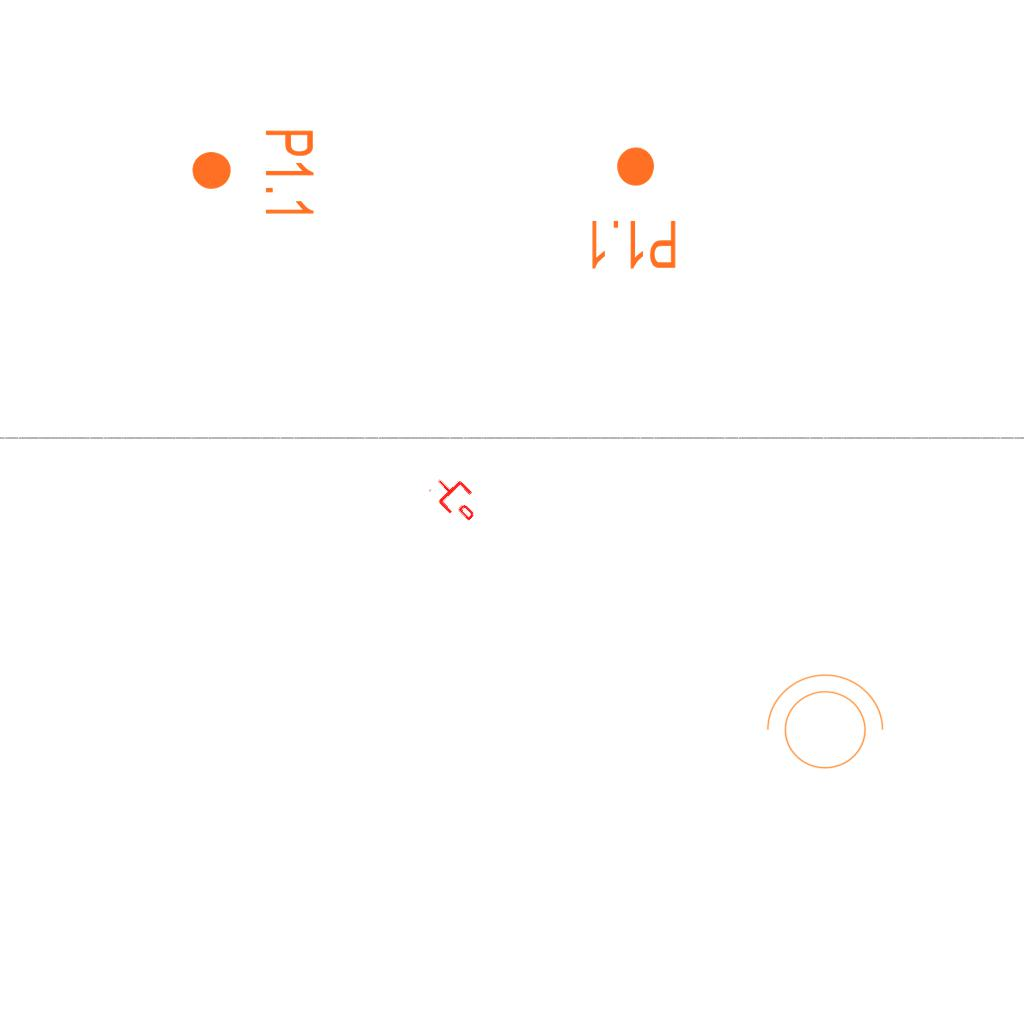Datenanschluss_einfach: (426, 468, 486, 528)
Downlight_LED_Einbauleuchten_Flur: (586, 144, 679, 272), (189, 127, 317, 220)
Scheinwerfer_fuer_Alarmbeleuchtung: (756, 669, 888, 781)
